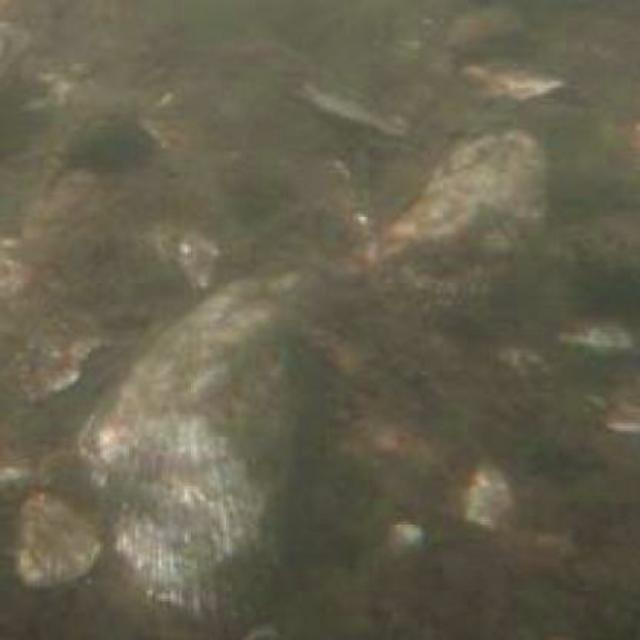Oyster-Closed: (91, 275, 301, 640), (267, 123, 558, 325)
